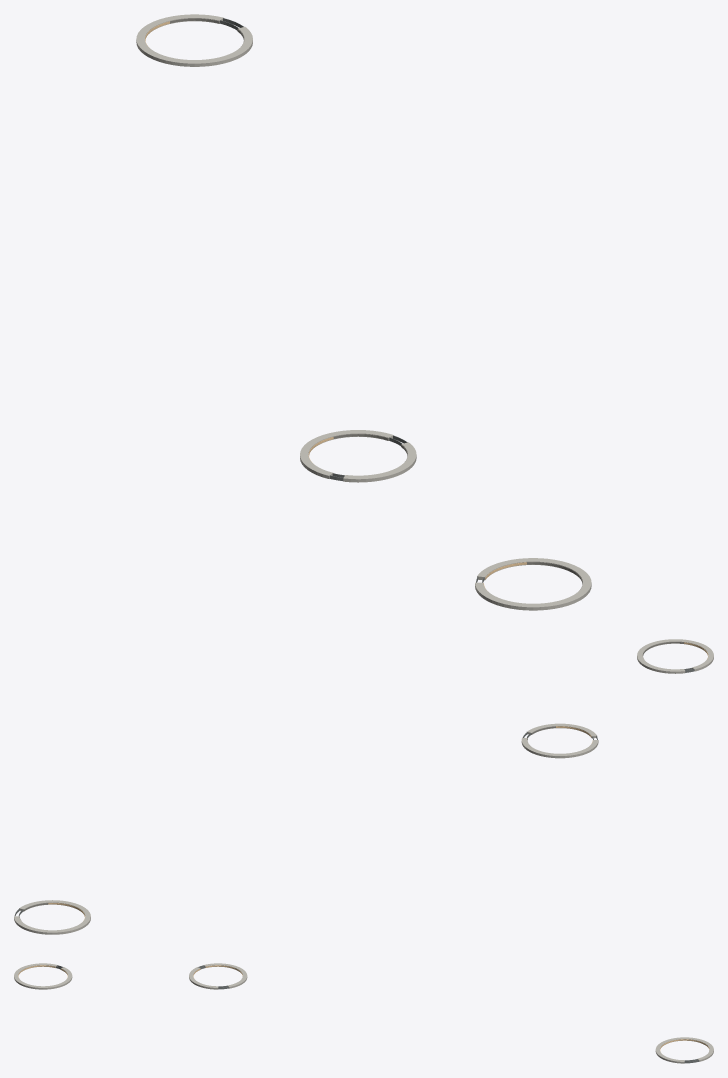
File: CeilingCoves.fbx
The picture shows the model from 3 angles, top to bottom: view 1: azimuth 30°, elevation 25°; view 2: azimuth 150°, elevation 25°; view 3: azimuth 270°, elevation 25°; orthographic projection. The views are drawn at different scales.
Parts seen in each view (by area): view 1: CeilingCoves; view 2: CeilingCoves; view 3: CeilingCoves.
Part boxes in pixels (<box>): CeilingCoves: <box>136,14,591,610</box>; CeilingCoves: <box>14,639,713,934</box>; CeilingCoves: <box>14,963,713,1063</box>.
Bounding box in the file's own units: 19.2 × 0.15 × 57.6.
